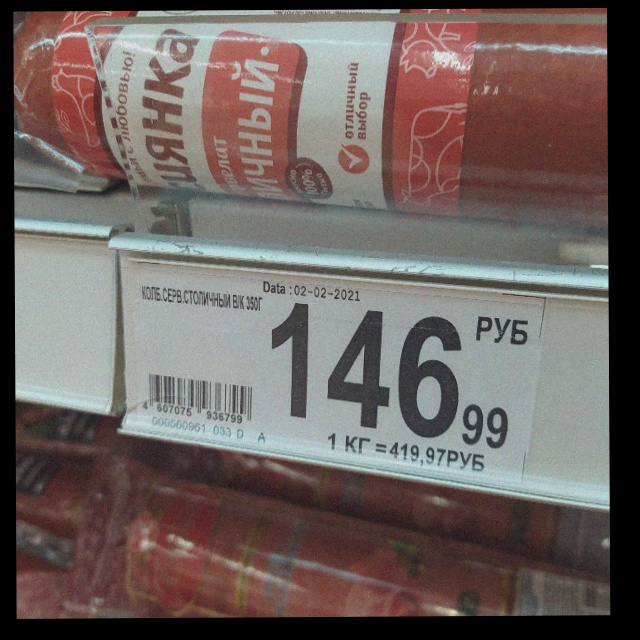barcode: (138, 371, 255, 426)
name: (137, 284, 264, 318)
price: (269, 301, 513, 451)
price_tag: (130, 257, 546, 485)
